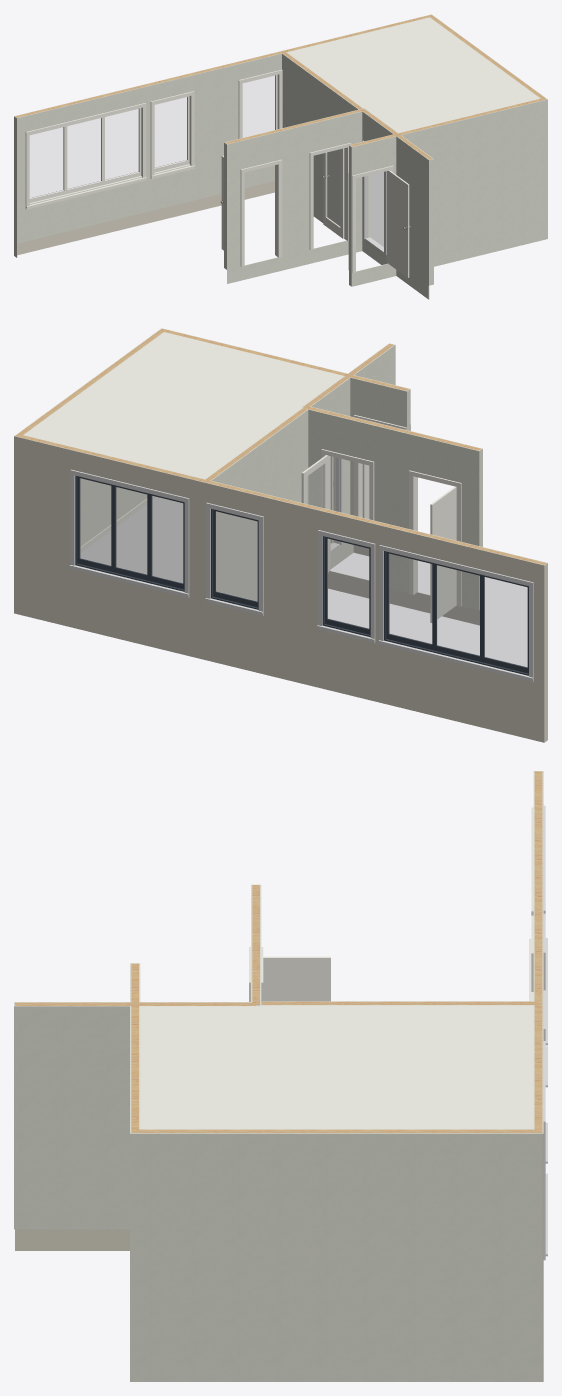
The model's file is room 2.dae.
3 views of the same model, one above another, from view 1: azimuth 30°, elevation 25°; view 2: azimuth 150°, elevation 25°; view 3: azimuth 270°, elevation 25° (orthographic). The views are drawn at different scales.
Visible parts, largest first — view 1: geo_104, geo_20, geo_115, geo_137, geo_54, geo_69, geo_152, geo_61; view 2: geo_137, geo_20, geo_104, geo_115, geo_61, geo_55, geo_152, geo_54, geo_69; view 3: geo_104, geo_20, geo_54, geo_137, geo_61.
Boxes of the visible parts, x1=… form: geo_104: x1=17, y1=15, x2=547, y2=299; geo_20: x1=25, y1=17, x2=539, y2=277; geo_115: x1=30, y1=76, x2=339, y2=226; geo_137: x1=14, y1=14, x2=431, y2=257; geo_54: x1=15, y1=14, x2=546, y2=159; geo_69: x1=29, y1=74, x2=278, y2=204; geo_152: x1=371, y1=172, x2=383, y2=246; geo_61: x1=362, y1=140, x2=386, y2=254; geo_137: x1=14, y1=407, x2=547, y2=742; geo_20: x1=24, y1=332, x2=461, y2=622; geo_104: x1=14, y1=328, x2=546, y2=610; geo_115: x1=80, y1=464, x2=527, y2=666; geo_61: x1=69, y1=457, x2=533, y2=681; geo_55: x1=75, y1=475, x2=528, y2=675; geo_152: x1=80, y1=497, x2=331, y2=582; geo_54: x1=15, y1=328, x2=546, y2=564; geo_69: x1=80, y1=479, x2=526, y2=667; geo_104: x1=14, y1=771, x2=542, y2=1381; geo_20: x1=140, y1=807, x2=533, y2=1129; geo_54: x1=15, y1=771, x2=542, y2=1132; geo_137: x1=15, y1=771, x2=543, y2=1381; geo_61: x1=543, y1=805, x2=547, y2=1260.
Size of the model in its own units: 983 by 612 by 314.
